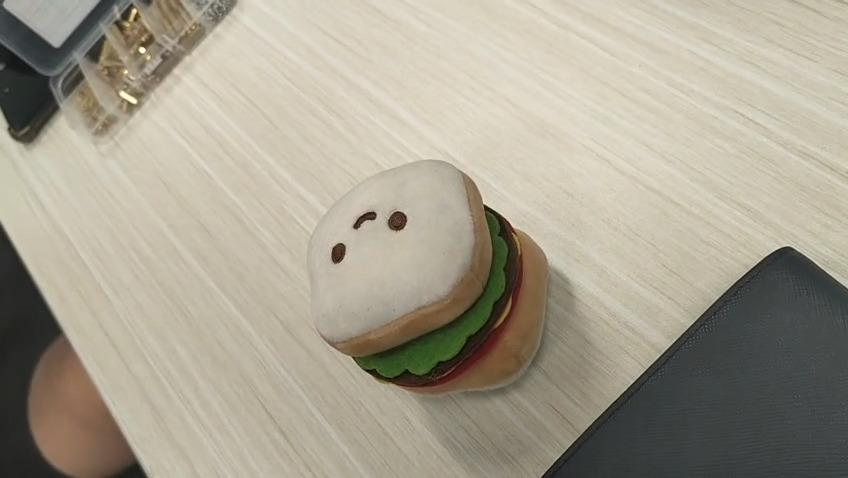objects: (262, 150, 548, 399)
